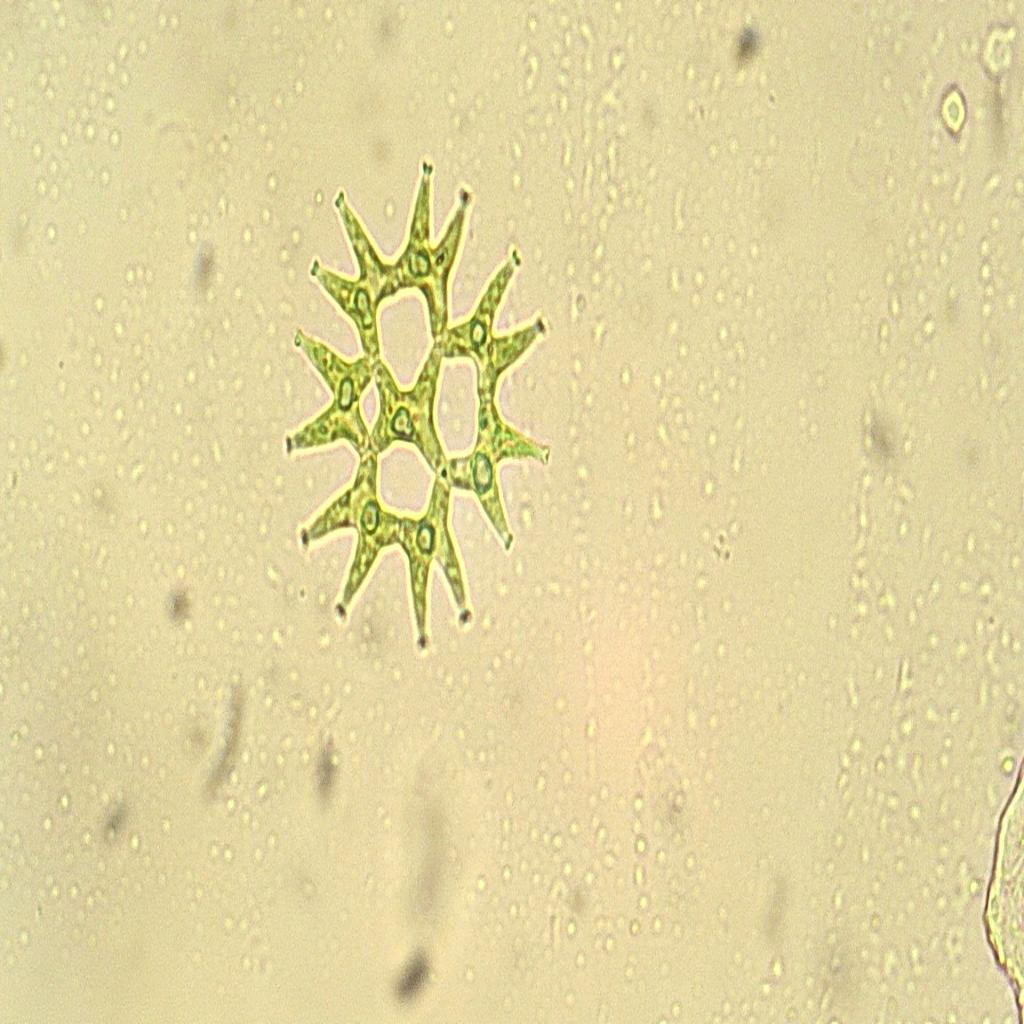Pediastrum_CTH: (266, 152, 570, 670)
